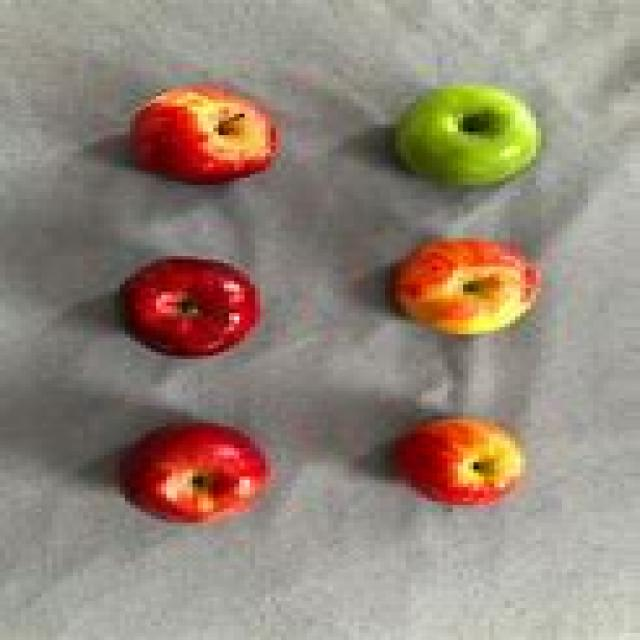Apple: (125, 73, 288, 196), (104, 416, 276, 530), (112, 250, 264, 368), (392, 79, 544, 192), (389, 235, 548, 341), (385, 414, 530, 513)
